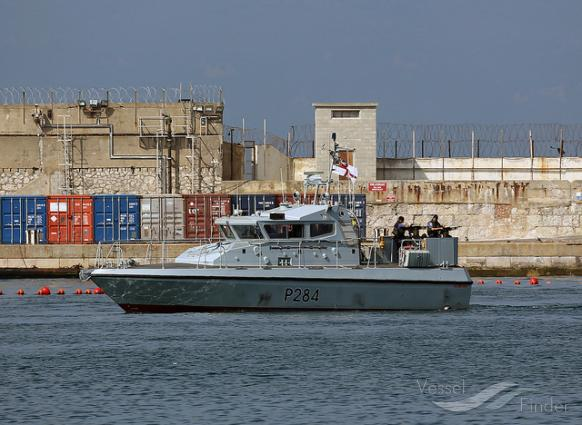OCR: (278, 284, 320, 309)
